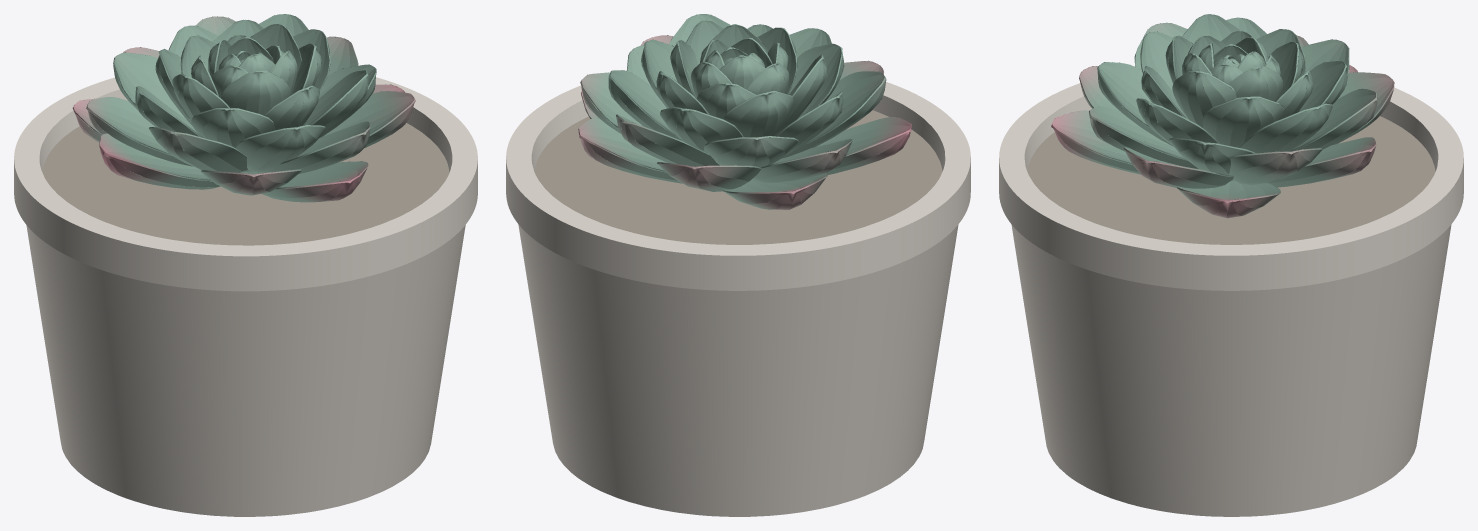
The model's file is succulent.glb.
The picture shows the model from 3 angles, left to right: view 1: azimuth 30°, elevation 25°; view 2: azimuth 150°, elevation 25°; view 3: azimuth 270°, elevation 25°; orthographic projection.
Visible parts, largest first — view 1: succulent.002, succulent, succulent.001; view 2: succulent.002, succulent, succulent.001; view 3: succulent.002, succulent, succulent.001.
Boxes of the visible parts, box(x1,y1,x2,y2) form: succulent.002: box(14, 77, 477, 516); succulent: box(72, 14, 415, 202); succulent.001: box(42, 123, 449, 245); succulent.002: box(506, 82, 970, 516); succulent: box(578, 14, 911, 209); succulent.001: box(534, 110, 942, 244); succulent.002: box(999, 83, 1463, 516); succulent: box(1051, 14, 1394, 218); succulent.001: box(1027, 116, 1435, 244).
Bounding box in the file's own units: 0.12 × 0.1125 × 0.12.
